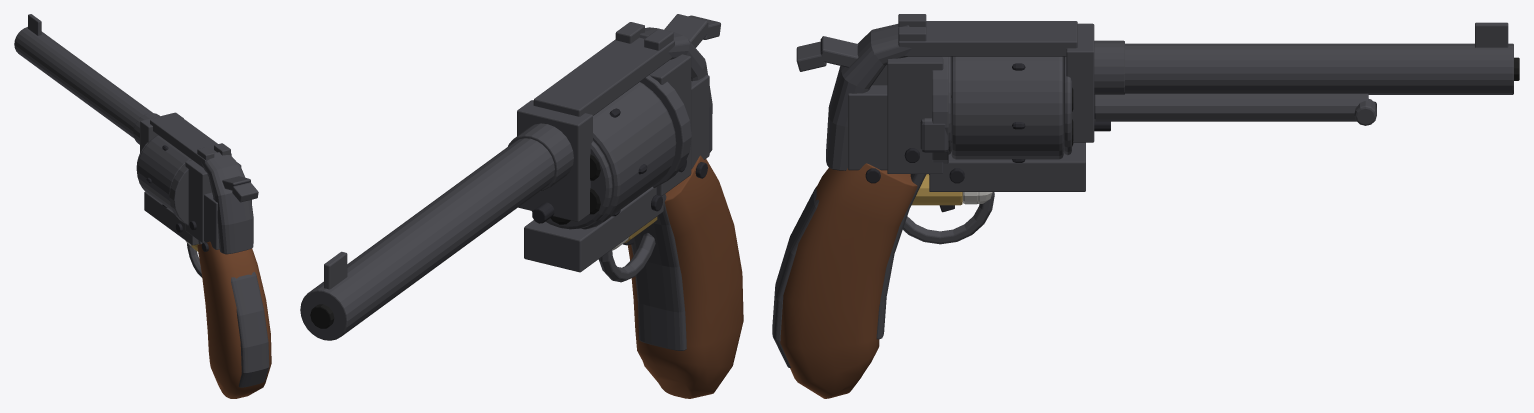
Rendered from revolver.glb.
The picture shows the model from 3 angles, left to right: view 1: azimuth 30°, elevation 25°; view 2: azimuth 150°, elevation 25°; view 3: azimuth 270°, elevation 25°; orthographic projection. The views are drawn at different scales.
Parts seen in each view (by area): view 1: Revolver, RevolverCylinder, RevolverHammer; view 2: Revolver, RevolverCylinder, RevolverHammer; view 3: Revolver, RevolverCylinder, RevolverHammer, RevolverRound, RevolverGate.
Boxes of the visible parts, bbox=[...] form: Revolver: bbox=[14, 14, 271, 398]; RevolverCylinder: bbox=[136, 135, 190, 211]; RevolverHammer: bbox=[222, 176, 258, 202]; Revolver: bbox=[300, 22, 743, 398]; RevolverCylinder: bbox=[532, 82, 676, 229]; RevolverHammer: bbox=[664, 14, 720, 47]; Revolver: bbox=[772, 14, 1519, 398]; RevolverCylinder: bbox=[948, 56, 1073, 162]; RevolverHammer: bbox=[796, 36, 887, 85]; RevolverRound: bbox=[912, 174, 992, 205]; RevolverGate: bbox=[920, 118, 948, 152].
Size of the model in its own units: 0.045 by 0.1453 by 0.267.
